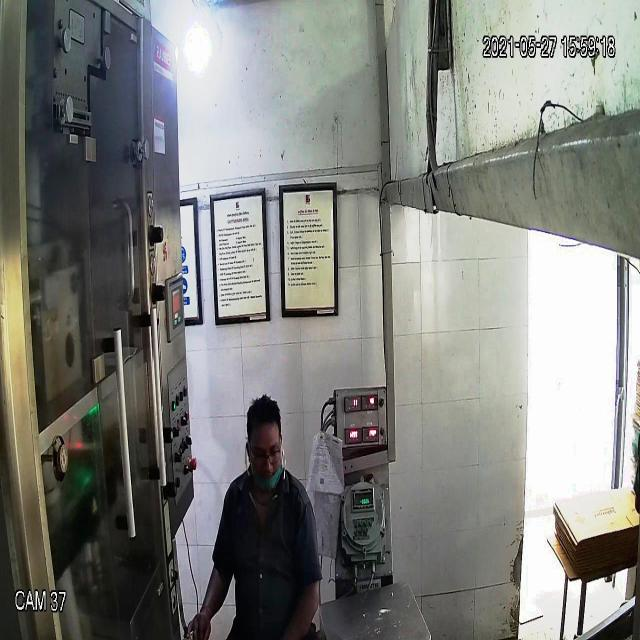glasses: (242, 433, 284, 471)
